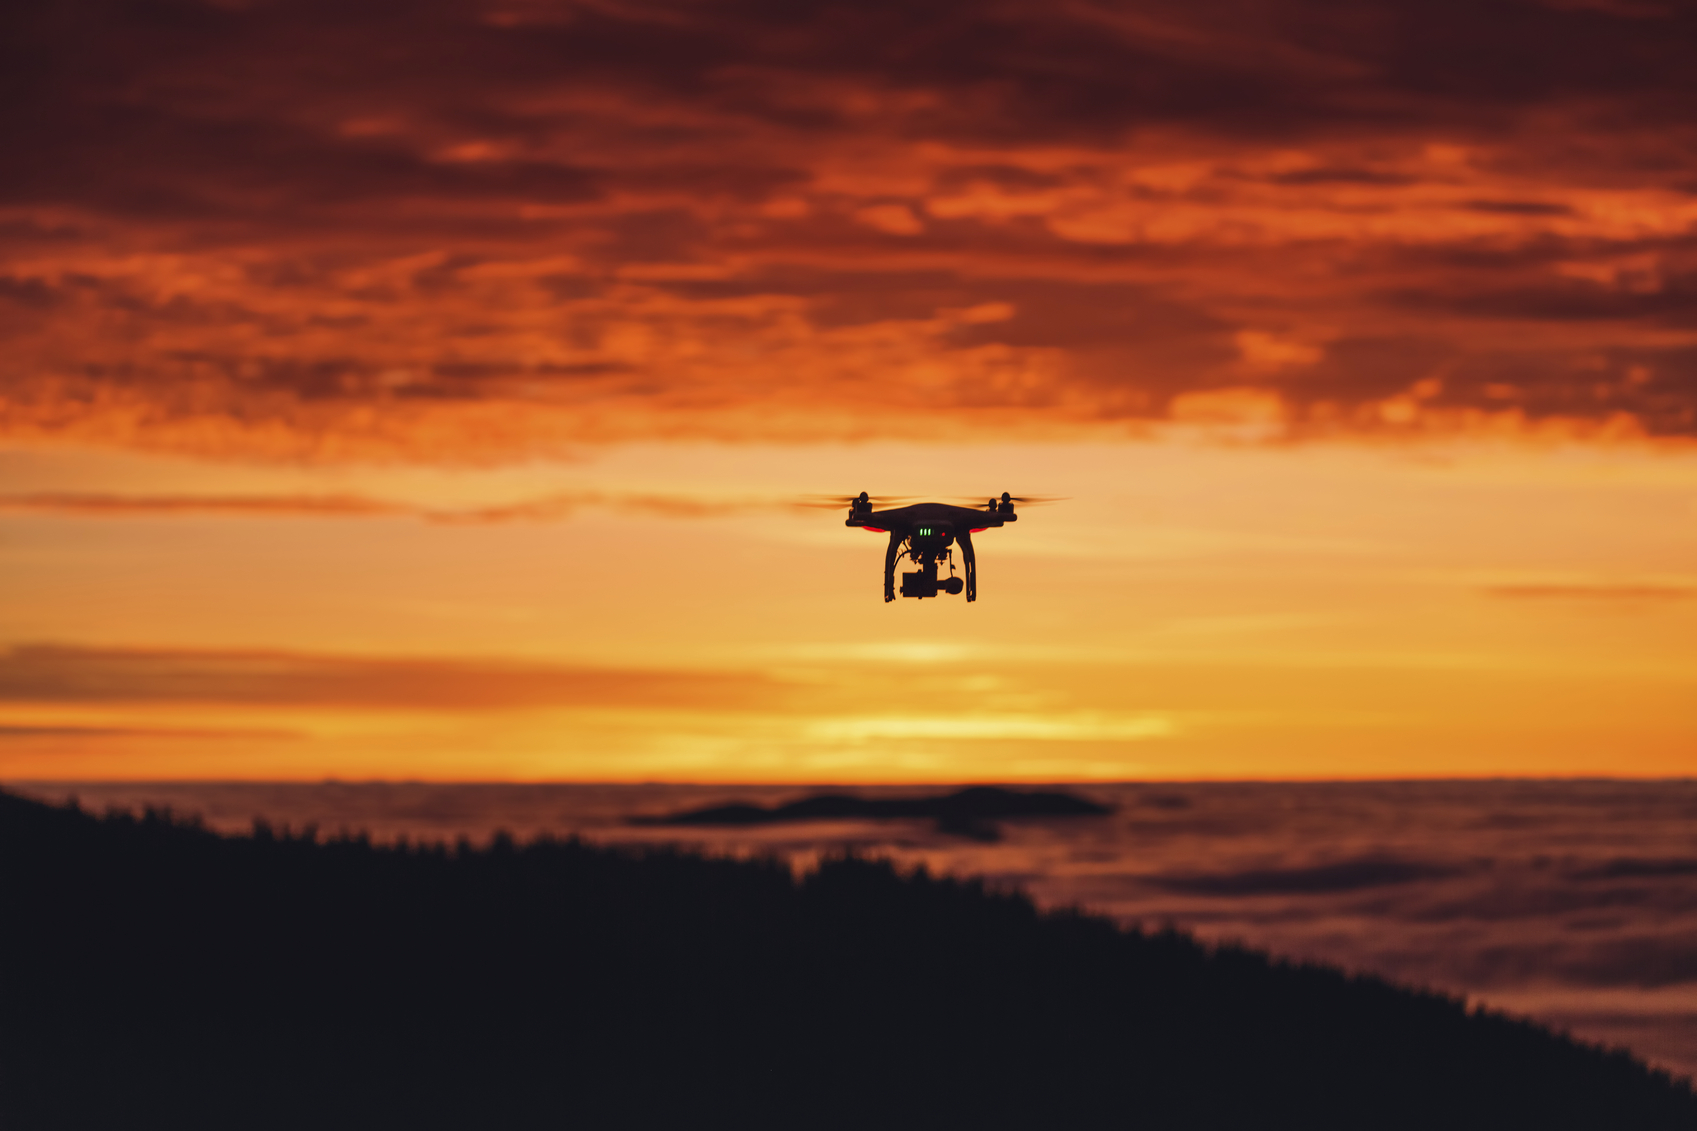drone: (786, 478, 1069, 610)
